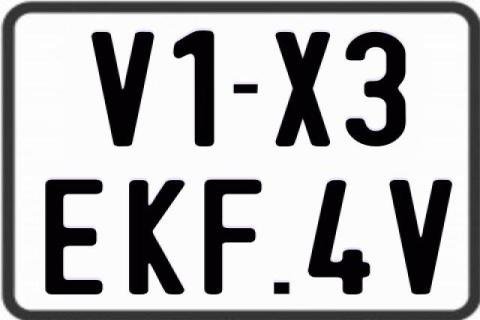0: (305, 177, 368, 297), (346, 30, 407, 146), (172, 31, 213, 147)
E: (44, 177, 104, 292)
F: (201, 178, 262, 296)
K: (128, 180, 184, 296)
V: (388, 180, 456, 298), (91, 31, 159, 146)
X: (276, 30, 336, 146)
